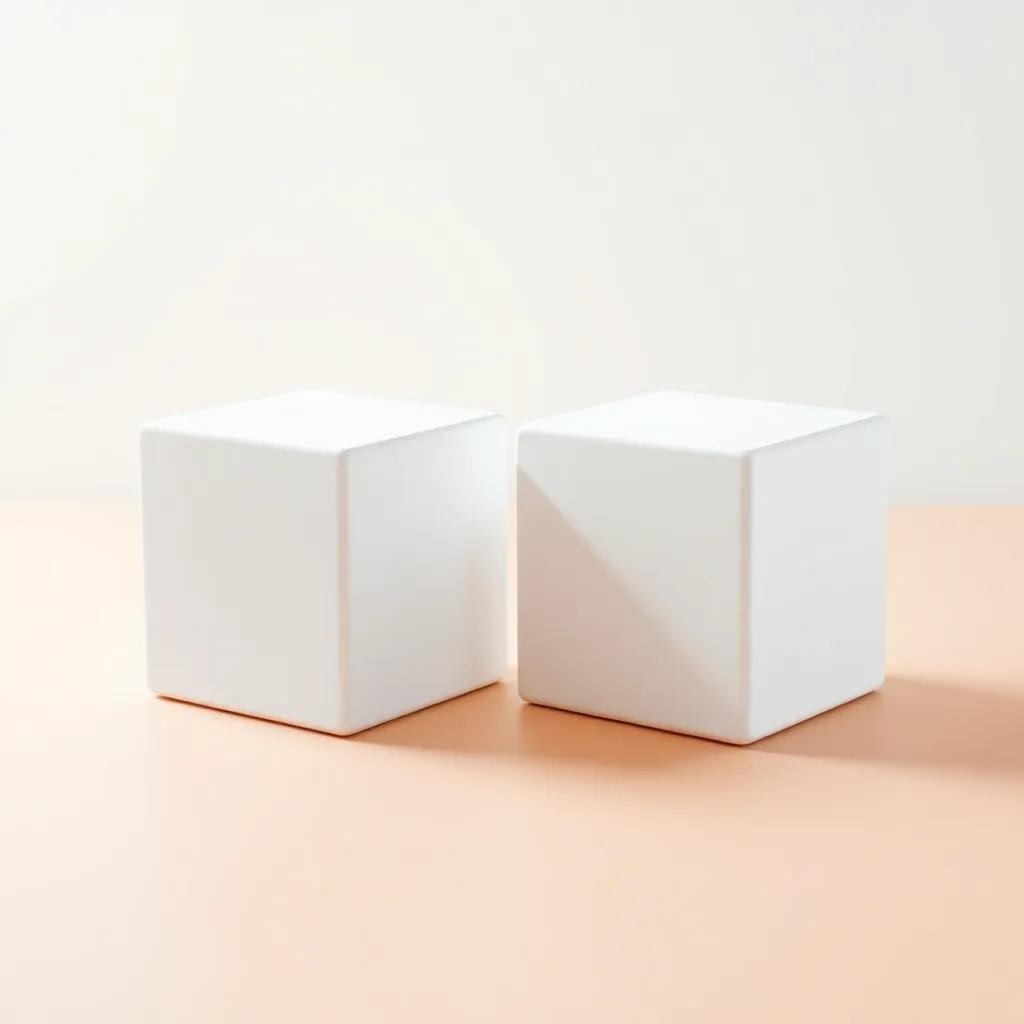cube: (514, 387, 888, 746), (138, 386, 508, 737)
